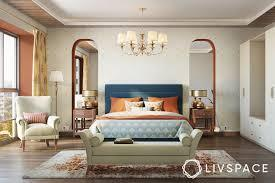bed: (87, 82, 197, 138)
chair: (14, 92, 59, 151)
light: (110, 6, 171, 60), (46, 68, 65, 129), (189, 88, 207, 108), (82, 89, 97, 108)
sofa: (81, 127, 202, 169)
table: (189, 107, 214, 137), (73, 107, 97, 137)
